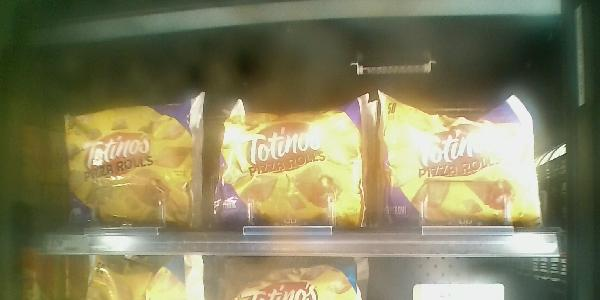icecream: (379, 82, 548, 230), (213, 86, 372, 231), (56, 91, 205, 236)
